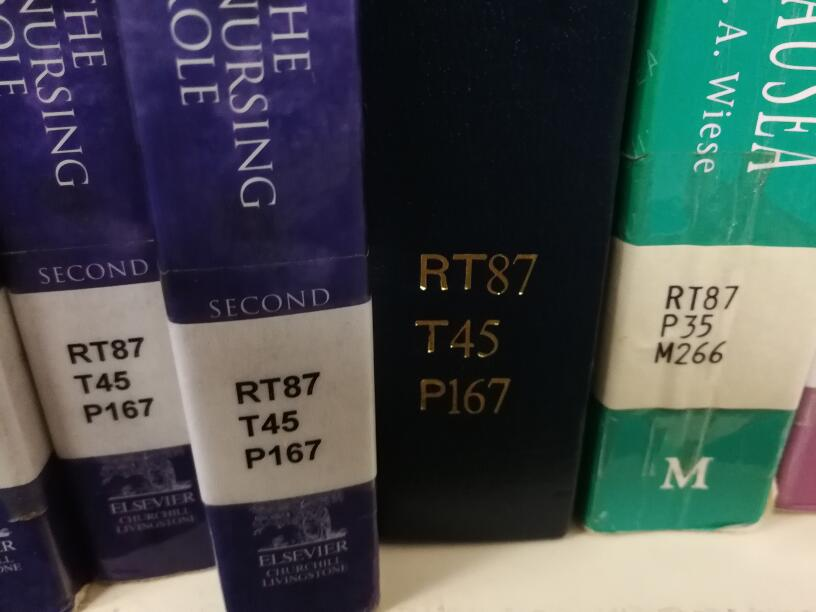booklabel: (417, 249, 542, 417), (231, 369, 325, 470), (63, 333, 157, 426), (652, 282, 741, 365)
